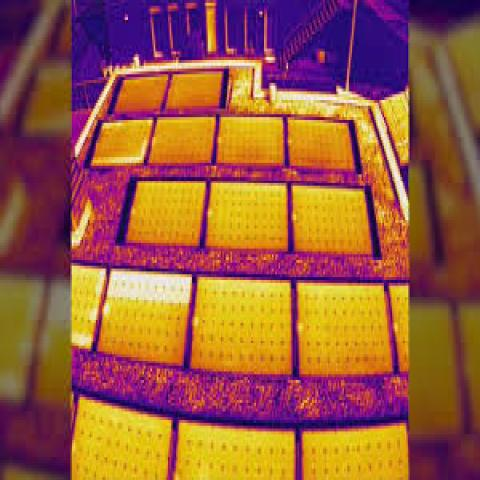fault: (109, 271, 192, 306), (96, 154, 142, 169), (70, 329, 92, 352), (102, 123, 123, 131), (139, 137, 146, 160), (94, 283, 104, 297), (102, 303, 112, 317), (88, 309, 99, 320), (96, 269, 107, 280), (194, 314, 201, 326), (298, 317, 302, 337), (206, 209, 213, 217)
